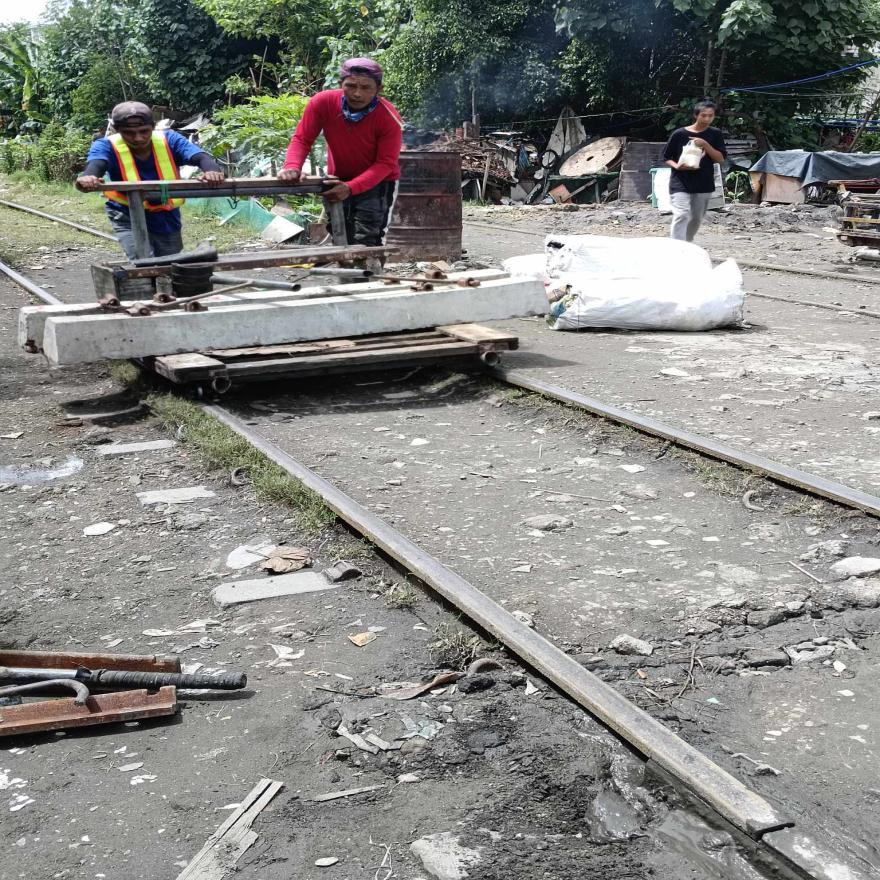railway-gap: (716, 791, 833, 867)
